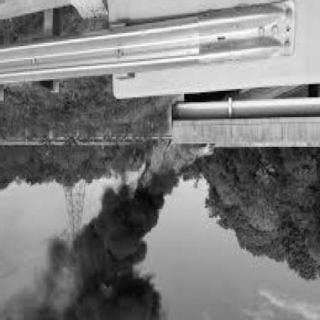Smoke: (26, 178, 179, 320)
